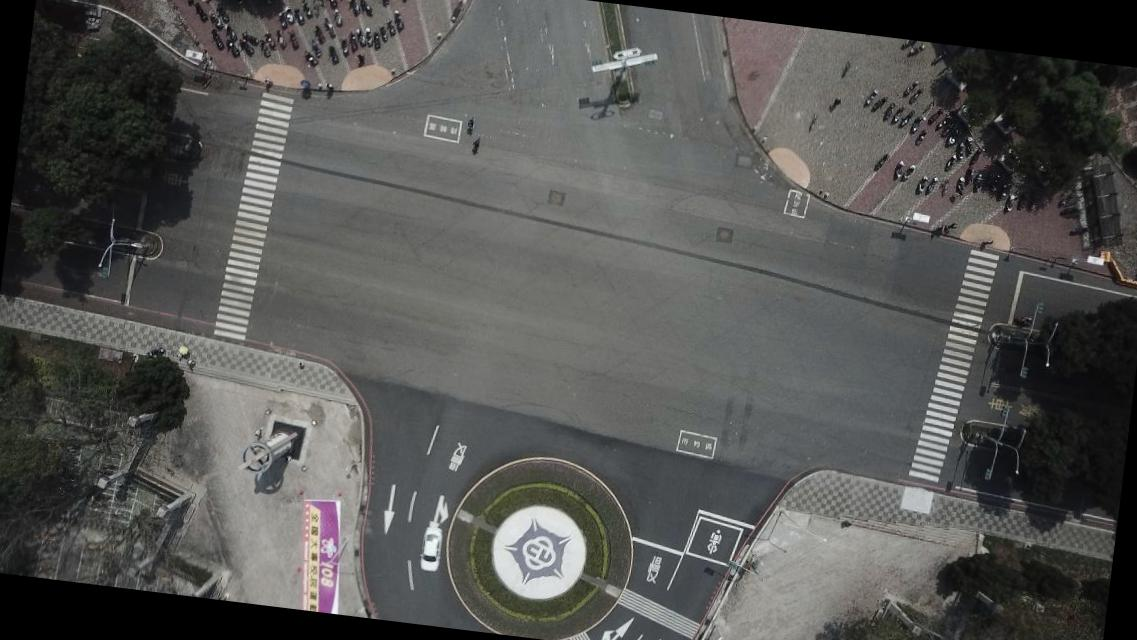vehicle: (418, 526, 444, 573)
